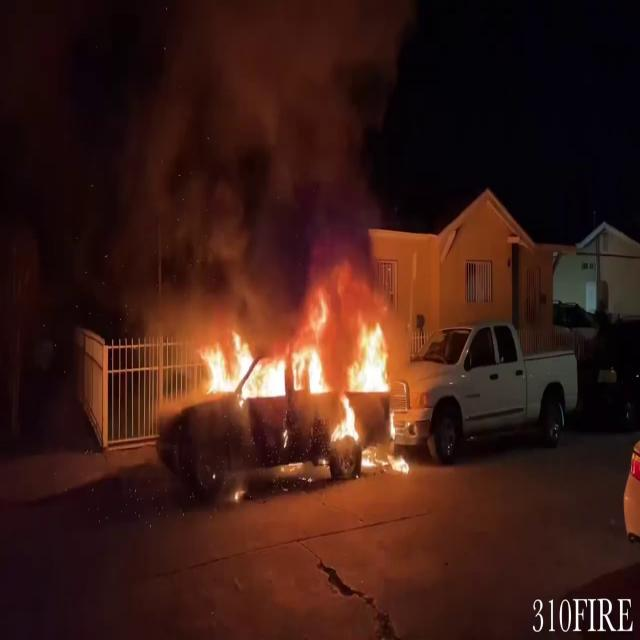Fire: (192, 285, 412, 472)
Smoke: (99, 0, 405, 316)
